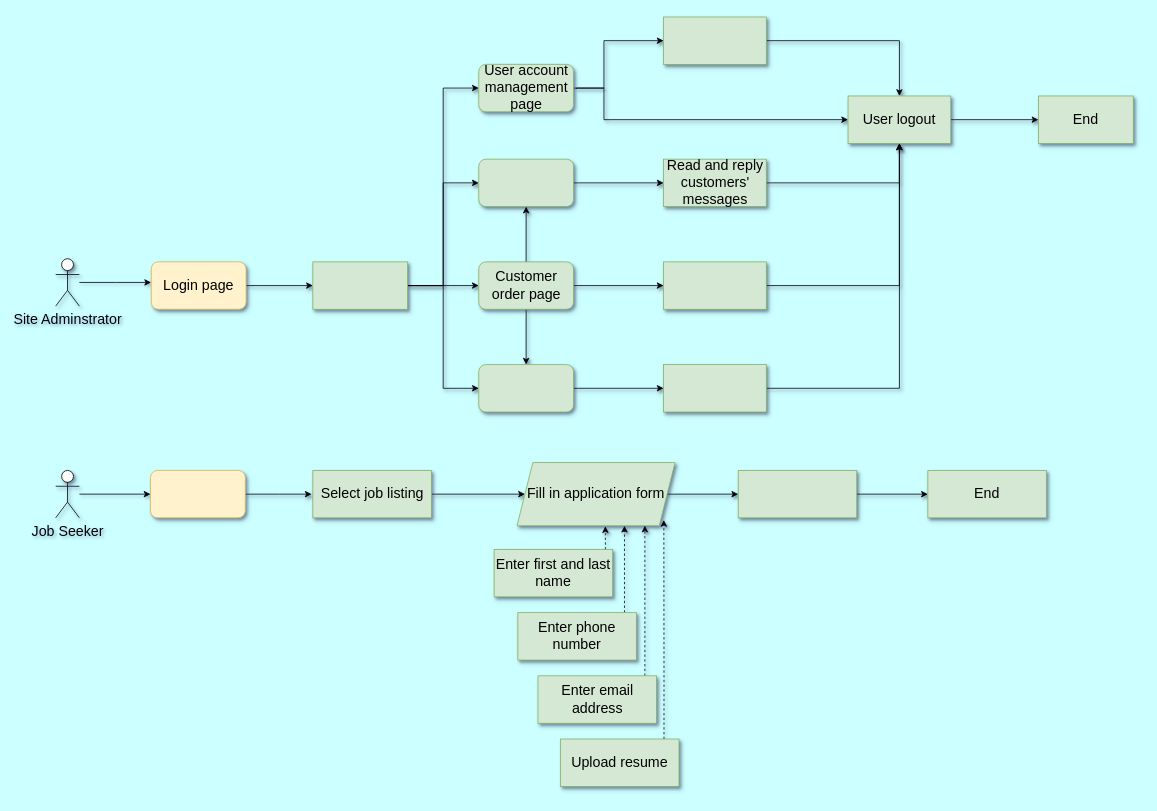
The diagram is 1157 pixels wide and 811 high, and some of its shapes have lost their labels. Here are the shapes that lost their labels. From the top down, the centre of each, then its label:
point 715,41: Reset user password
point 526,183: Customer message page
point 360,286: User Login
point 715,286: Filter and list customers' orders
point 526,389: Vehicle list page
point 715,389: Add/remove rental car information
point 198,494: Job listing page
point 797,494: Submit application
